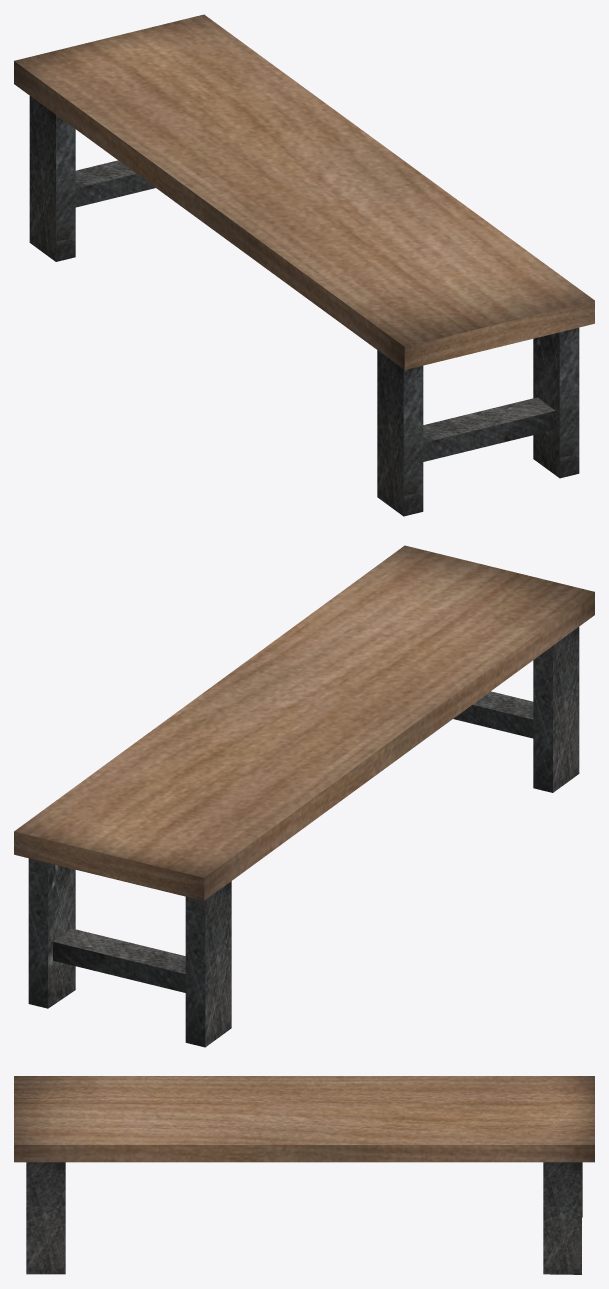
Rendered from Chair_Long.fbx.
3 renders of one model, top to bottom at view 1: azimuth 30°, elevation 25°; view 2: azimuth 150°, elevation 25°; view 3: azimuth 270°, elevation 25°, orthographic. The views are drawn at different scales.
Visible parts, largest first — view 1: pCube8; view 2: pCube8; view 3: pCube8.
Boxes of the visible parts, left/top/right/bottom form: pCube8: left=14, top=14, right=594, bottom=516; pCube8: left=14, top=545, right=594, bottom=1047; pCube8: left=14, top=1076, right=594, bottom=1274.
Size of the model in its own units: 0.5024 by 0.4482 by 1.79.
Materials: 1 (1 with a texture image).
